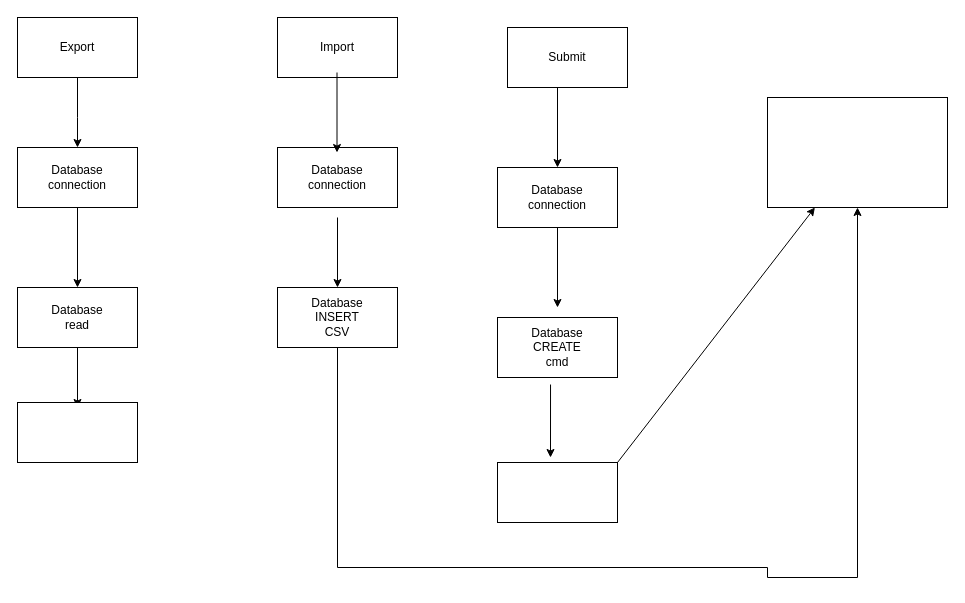
This 965x603 diagram has some shape labels left out. Here are the shapes that lost their labels. From the top down, the centre of each, then its label:
At [857,152]: "DataViewGrid fresh load".
At [77,432]: "Upload to CSV".
At [557,492]: "Database INSERT cmd".
